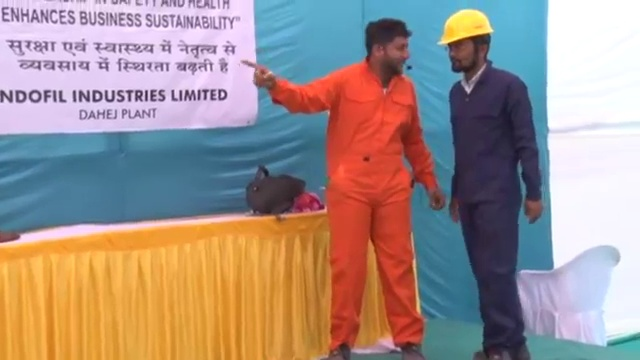helmet: (436, 6, 495, 45)
helmet_off: (364, 19, 414, 80)
helmet_on: (436, 7, 495, 75)
person: (253, 19, 443, 360), (434, 5, 547, 360)
